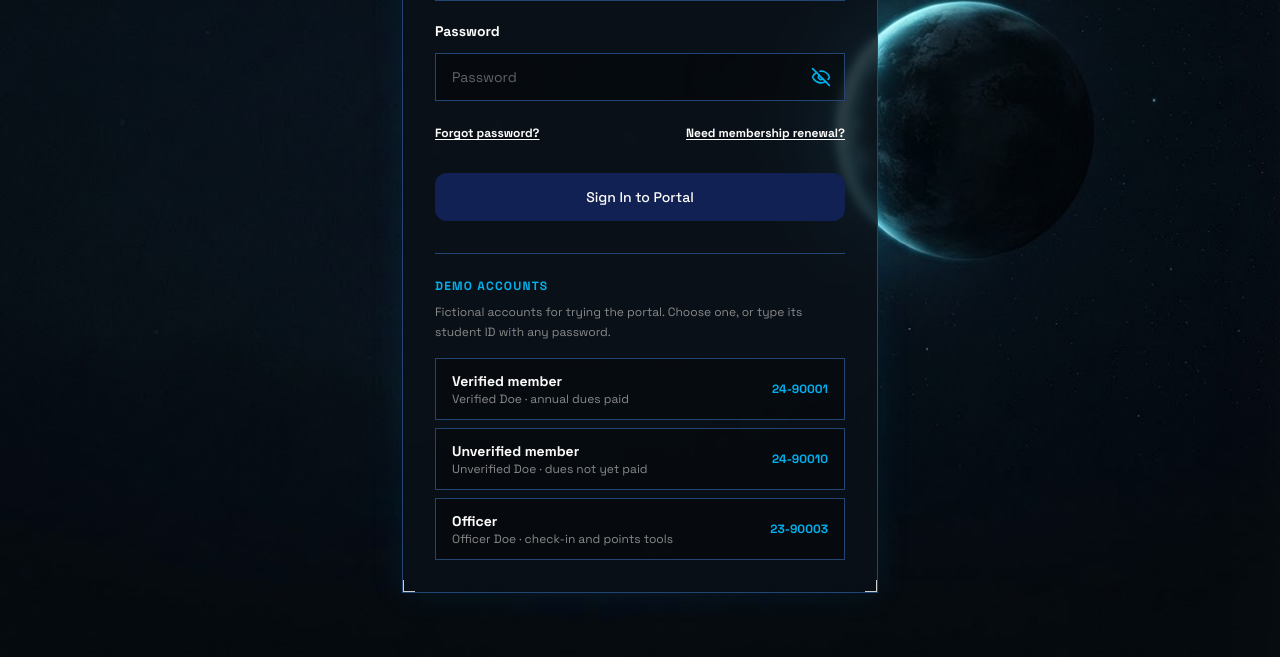
Test: camera check-in › explains a blocked camera
The image size is (1280, 657).
(page scrolled)
Step 1. Click the button "Officer Officer Doe · check-in and points tools 23-90003" → (640, 529), box [435, 498, 845, 560]
(page scrolled)
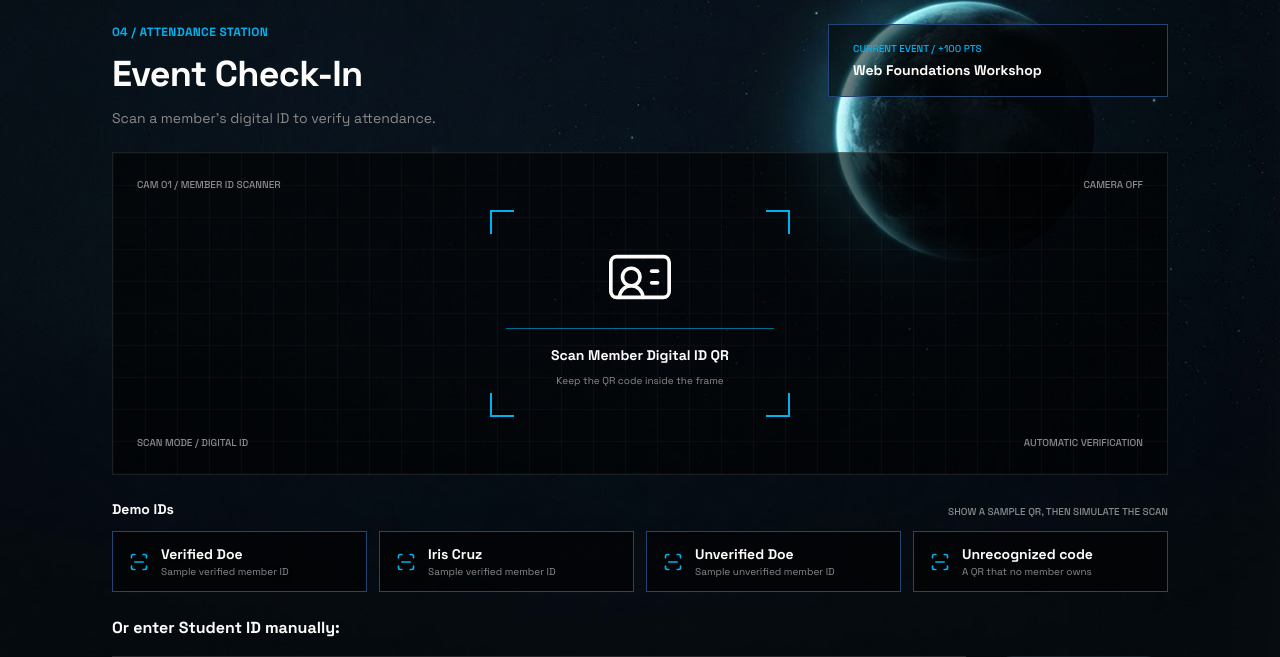
Step 2. Click the button named "Open camera to scan a member QR" → (640, 314), box [113, 153, 1167, 474]
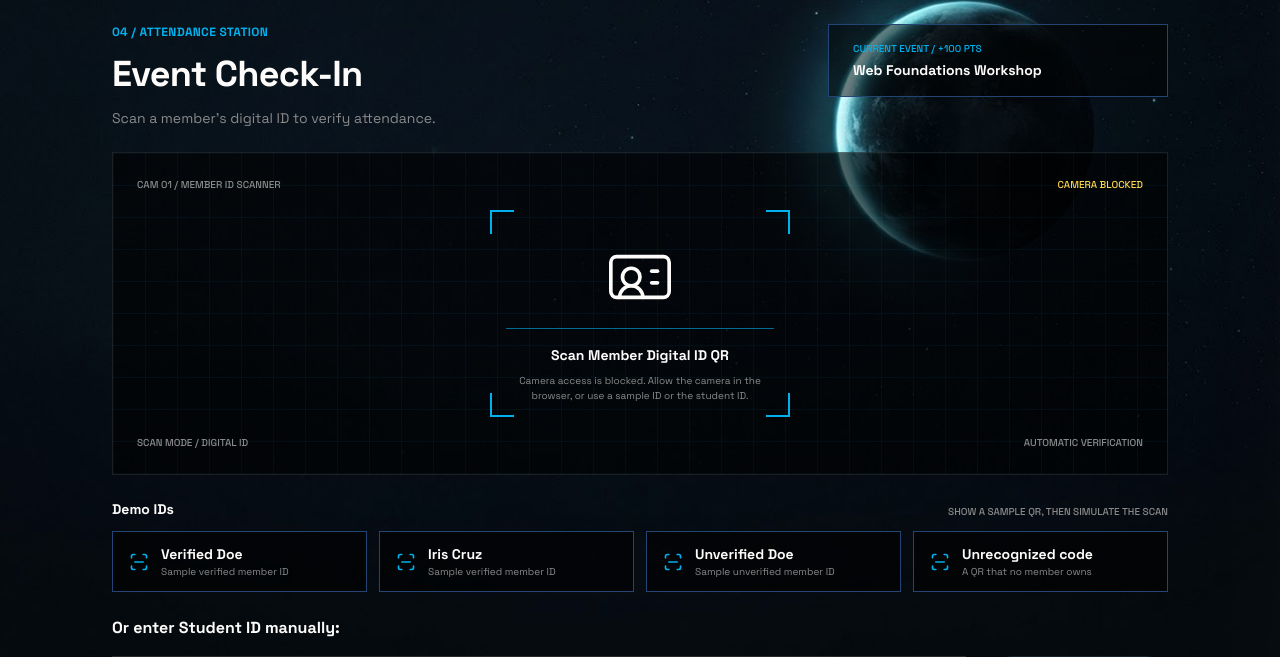
Check: the button named "Open camera to scan a member QR" is shown, box [113, 153, 1167, 474]
Check: the text "Camera access is blocked" is shown, box [519, 374, 761, 402]
Check: the text "Camera blocked" is shown, box [1058, 177, 1143, 192]
